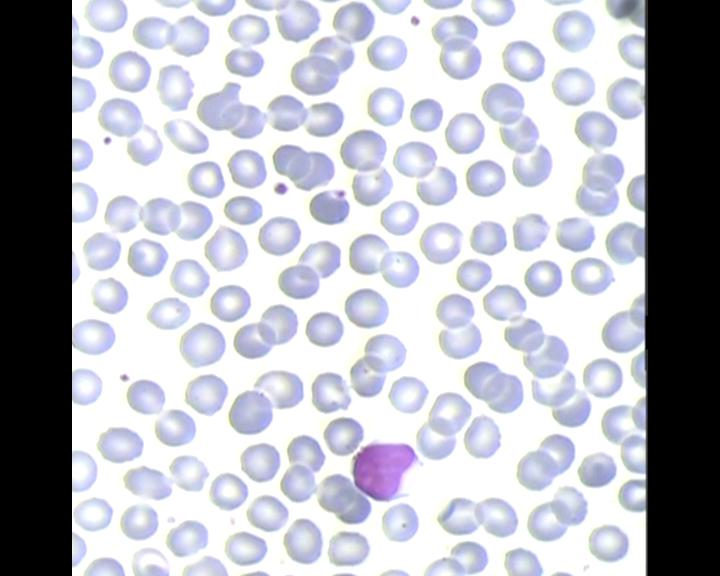lymp: (350, 433, 435, 504)
